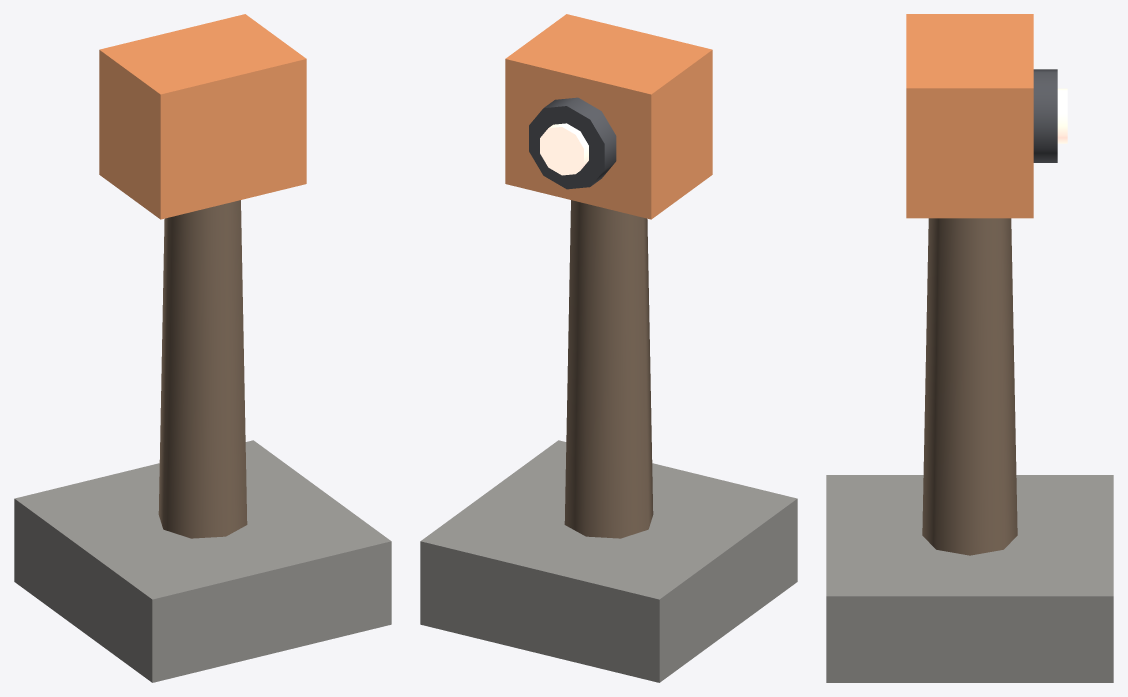
Rendered from build_item_sensor.glb.
The picture shows the model from 3 angles, left to right: view 1: azimuth 30°, elevation 25°; view 2: azimuth 150°, elevation 25°; view 3: azimuth 270°, elevation 25°; orthographic projection. The views are drawn at different scales.
Visible parts, largest first — view 1: Baked; view 2: Baked; view 3: Baked.
Boxes of the visible parts, x1,y1,x2,y2 form: Baked: (14,14,391,682); Baked: (420,14,797,682); Baked: (826,14,1113,682).
Bounding box in the file's own units: 0.36 × 0.79 × 0.36.
